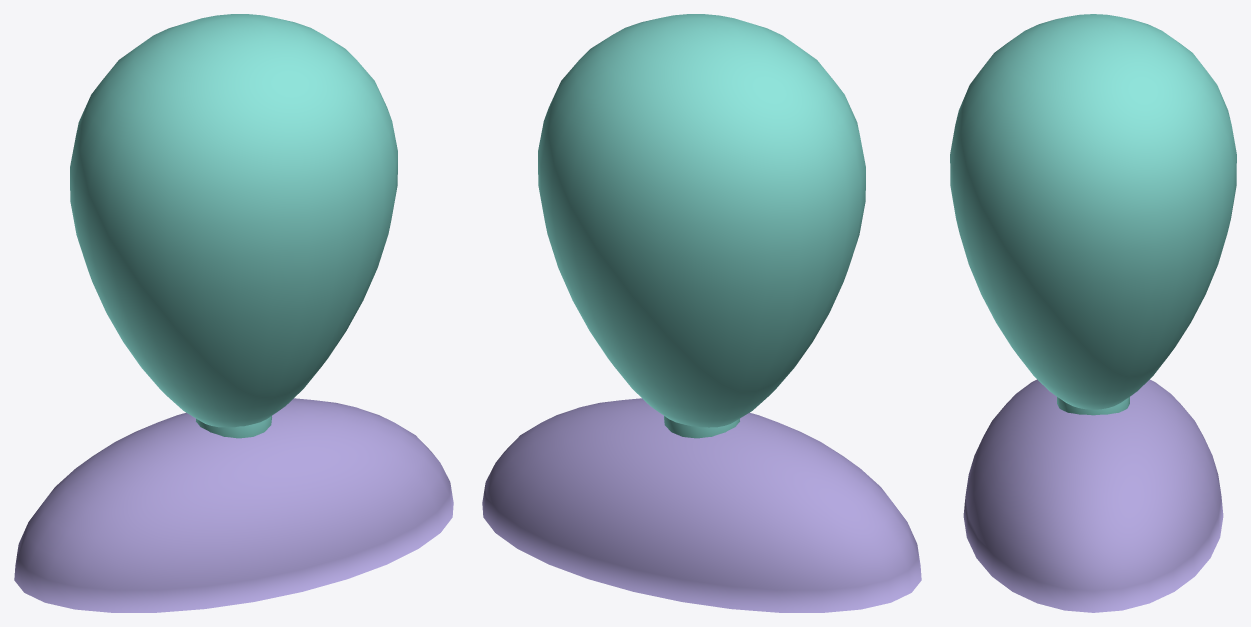
The model's file is head_dome.glb.
The picture shows the model from 3 angles, left to right: view 1: azimuth 30°, elevation 25°; view 2: azimuth 150°, elevation 25°; view 3: azimuth 270°, elevation 25°; orthographic projection. The views are drawn at different scales.
Parts seen in each view (by area): view 1: DomeHead, DomeShoulders; view 2: DomeHead, DomeShoulders; view 3: DomeHead, DomeShoulders.
Boxes of the visible parts, left/top/right/bottom form: DomeHead: left=70, top=14, right=397, bottom=427; DomeShoulders: left=14, top=398, right=453, bottom=612; DomeHead: left=538, top=14, right=865, bottom=427; DomeShoulders: left=482, top=398, right=921, bottom=612; DomeHead: left=950, top=14, right=1236, bottom=409; DomeShoulders: left=963, top=379, right=1223, bottom=612.
Bounding box in the file's own units: 0.6 × 0.6995 × 0.3753.
